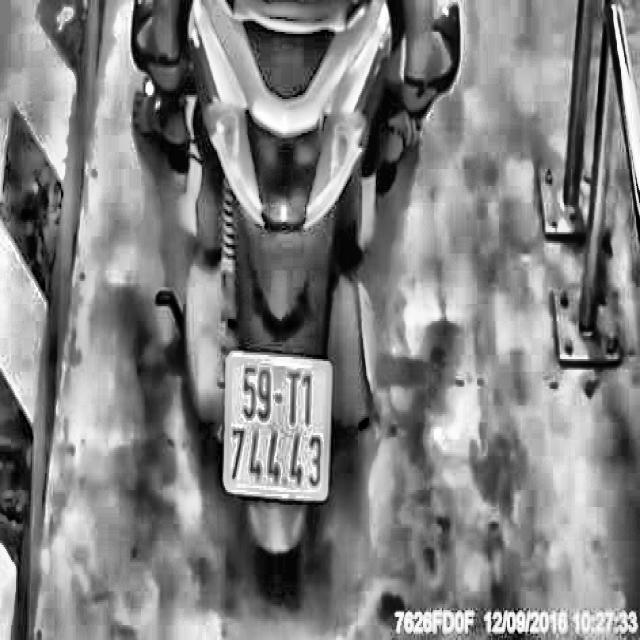plate: (218, 342, 337, 507)
